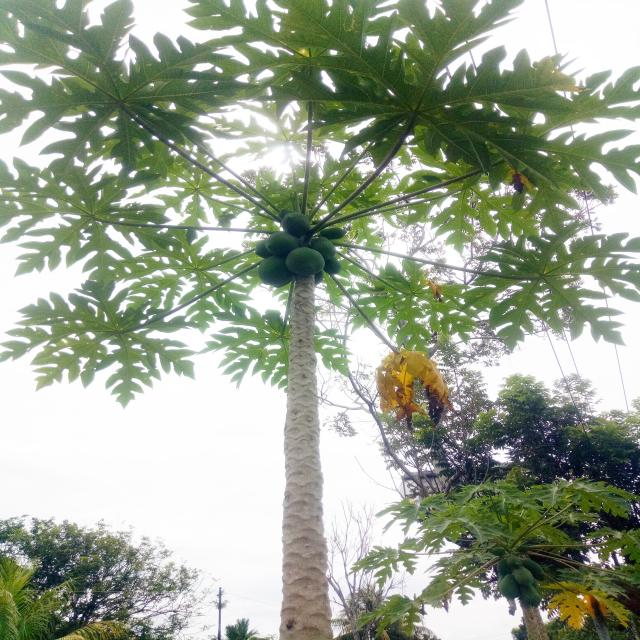Pepaya unrippen: (287, 241, 321, 279), (284, 212, 320, 240), (255, 258, 285, 282)
